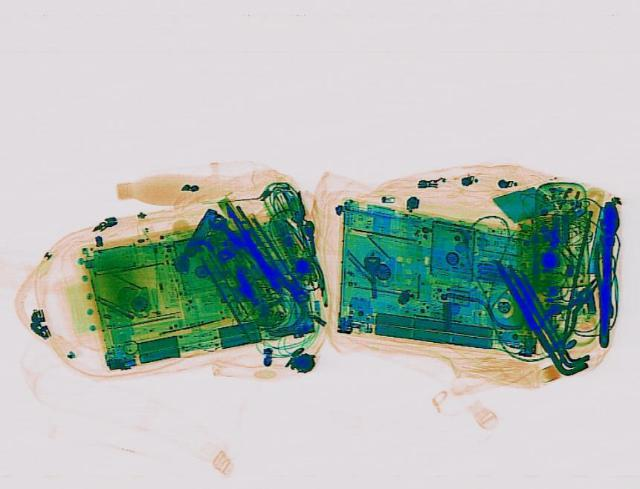Pliers: (522, 270, 616, 346)
Wrench: (204, 212, 312, 305)
